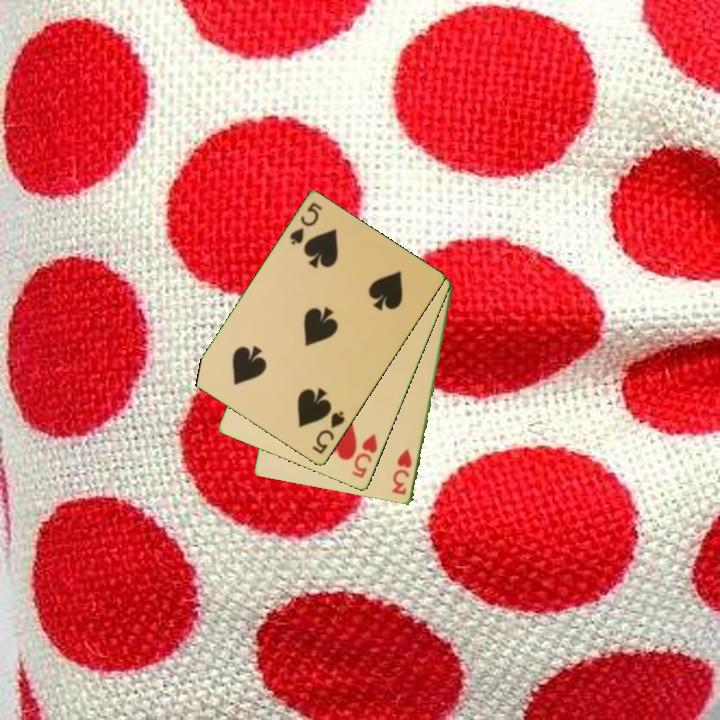3h: (388, 446, 415, 498)
5h: (348, 430, 381, 481)
5s: (308, 407, 348, 457), (286, 199, 325, 248)
